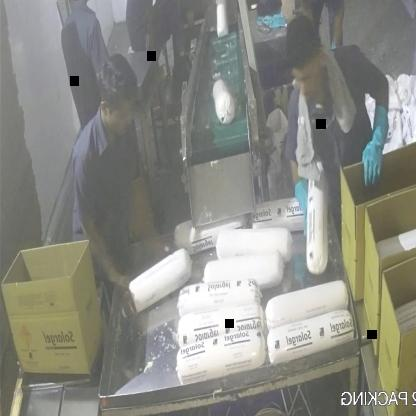glove: (359, 101, 391, 194)
no_glove: (68, 206, 139, 333), (127, 164, 174, 272)
